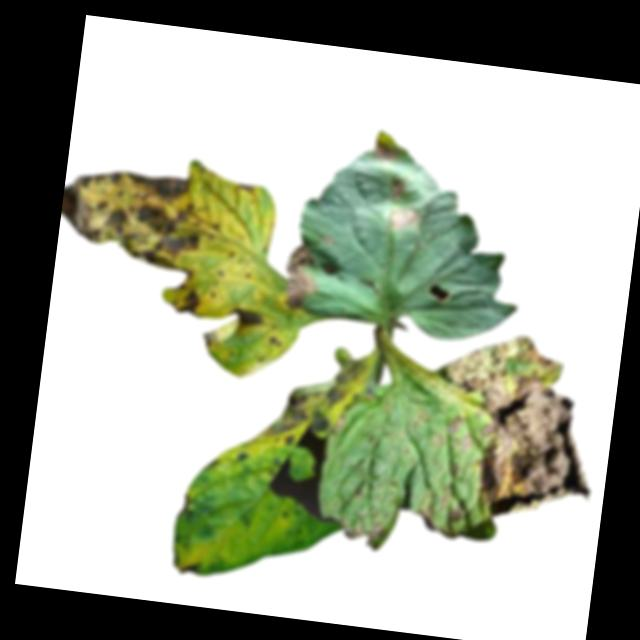Early_blight: (430, 322, 609, 528), (58, 162, 208, 277), (260, 347, 368, 449), (279, 243, 321, 314), (341, 514, 391, 552), (384, 204, 421, 237), (173, 286, 206, 317), (227, 305, 265, 330), (370, 138, 398, 164), (387, 175, 406, 202), (178, 561, 200, 579), (264, 337, 283, 353), (280, 433, 296, 448)
